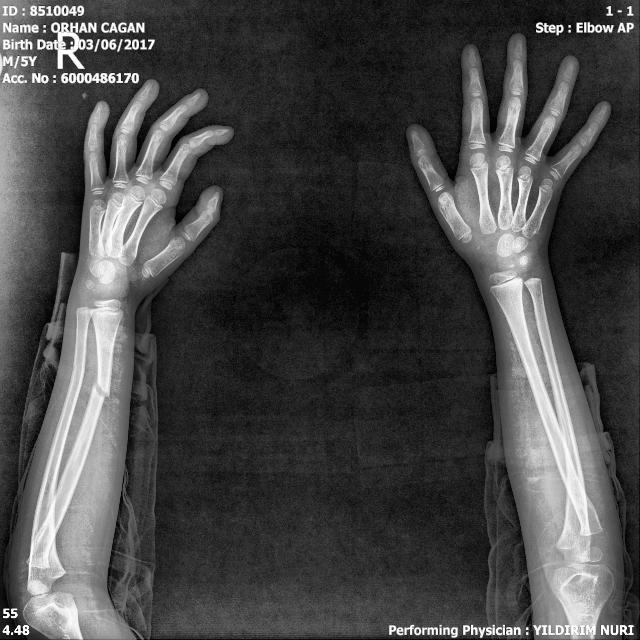Fracture: (90, 366, 113, 417)
